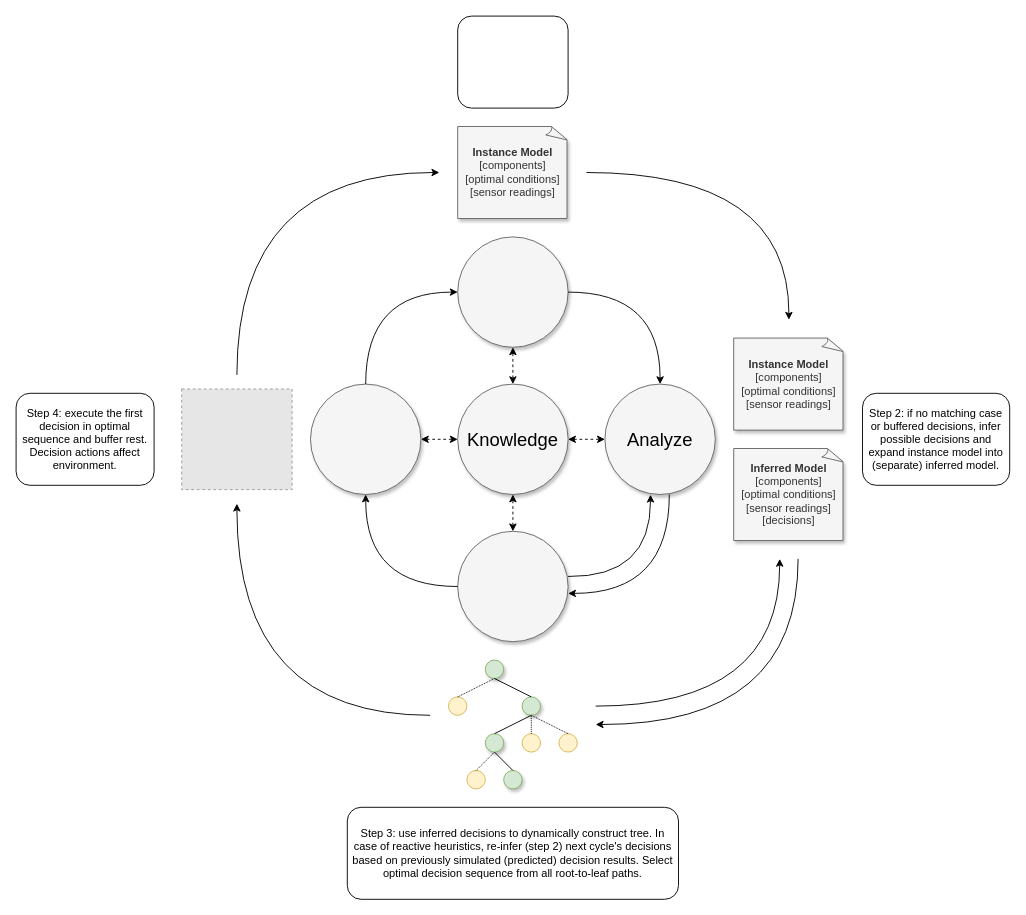
The diagram is 1026 pixels wide and 915 high, and some of its shapes have lost their labels. Grey dashed boxes stand in for pictures. The shapes that lost their labels are listed below. From the top down, each one's centre as x and y in pixels, then its label:
At pixel 512 61: "Step 1: observe and combine static and dynamic information into instance model.".
At pixel 513 293: "Monitor".
At pixel 366 440: "Execute".
At pixel 513 587: "Plan".
